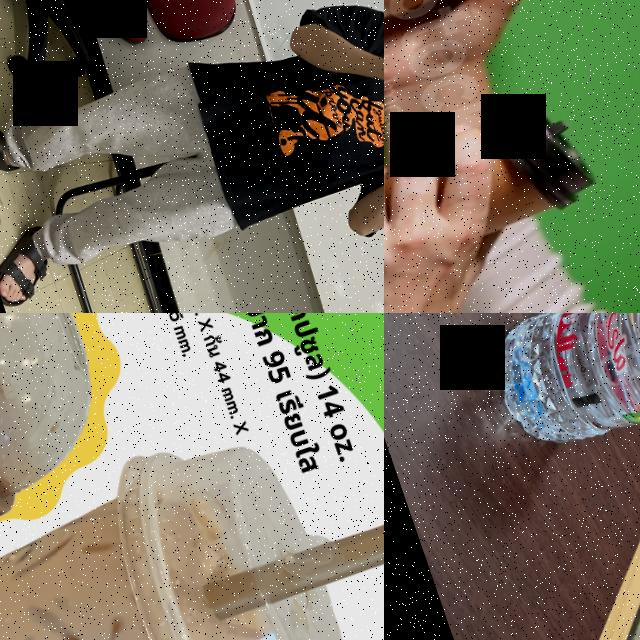bottle: (478, 313, 640, 477)
cup: (0, 405, 374, 640), (384, 85, 604, 285)
